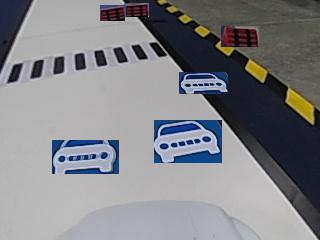crosswalk: (1, 40, 162, 85)
